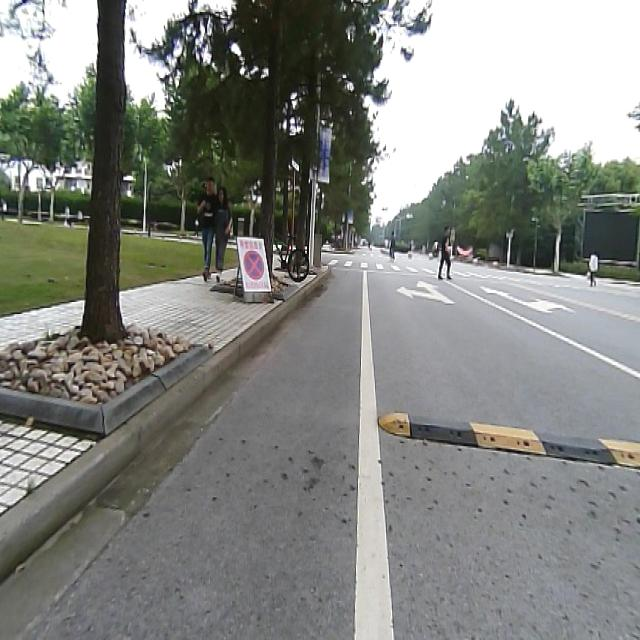Speed Bump: (377, 408, 639, 474)
